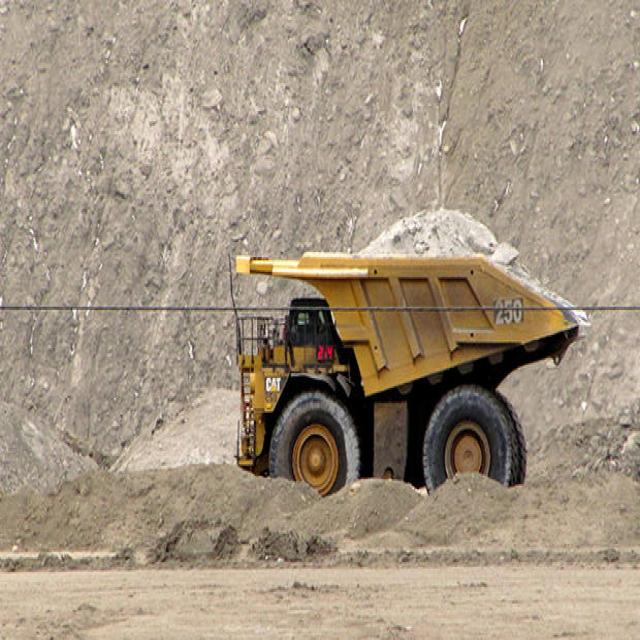dump_truck: (215, 224, 587, 501)
